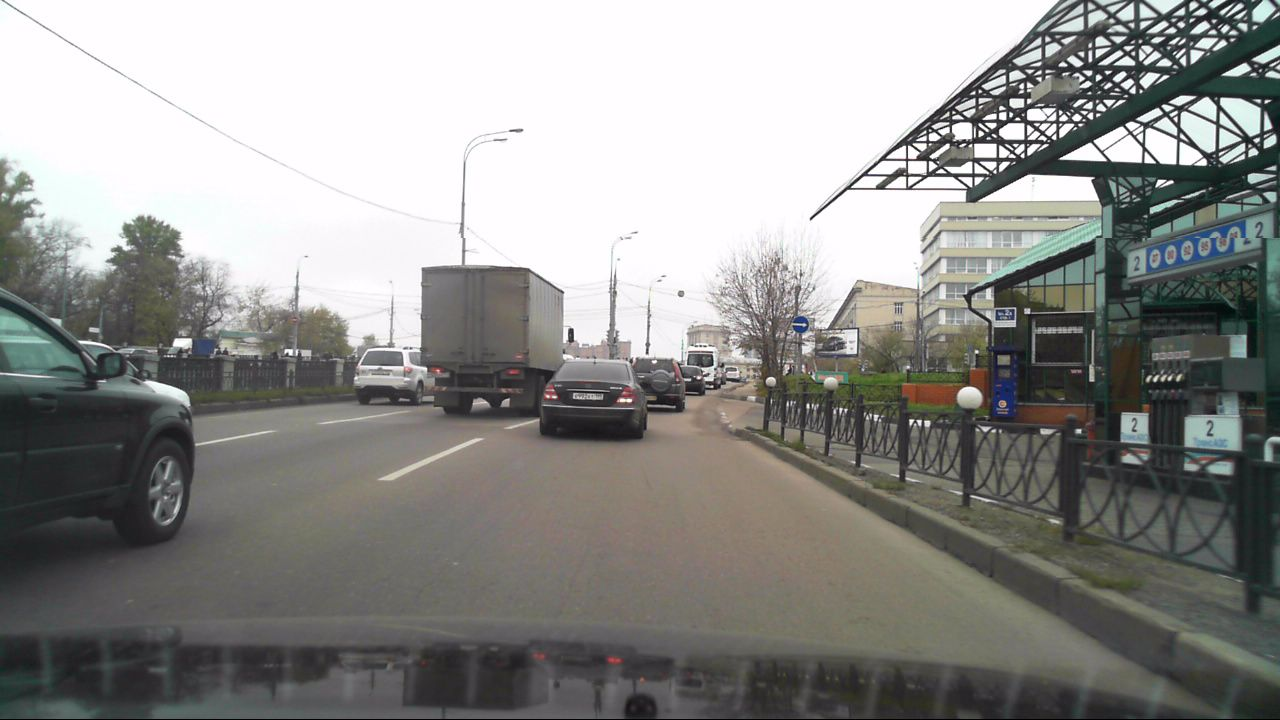Turn Right: (792, 316, 809, 333)
